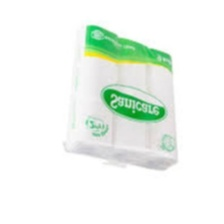tissue: (55, 16, 185, 179)
